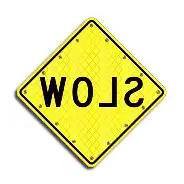Slow: (20, 21, 164, 162)
